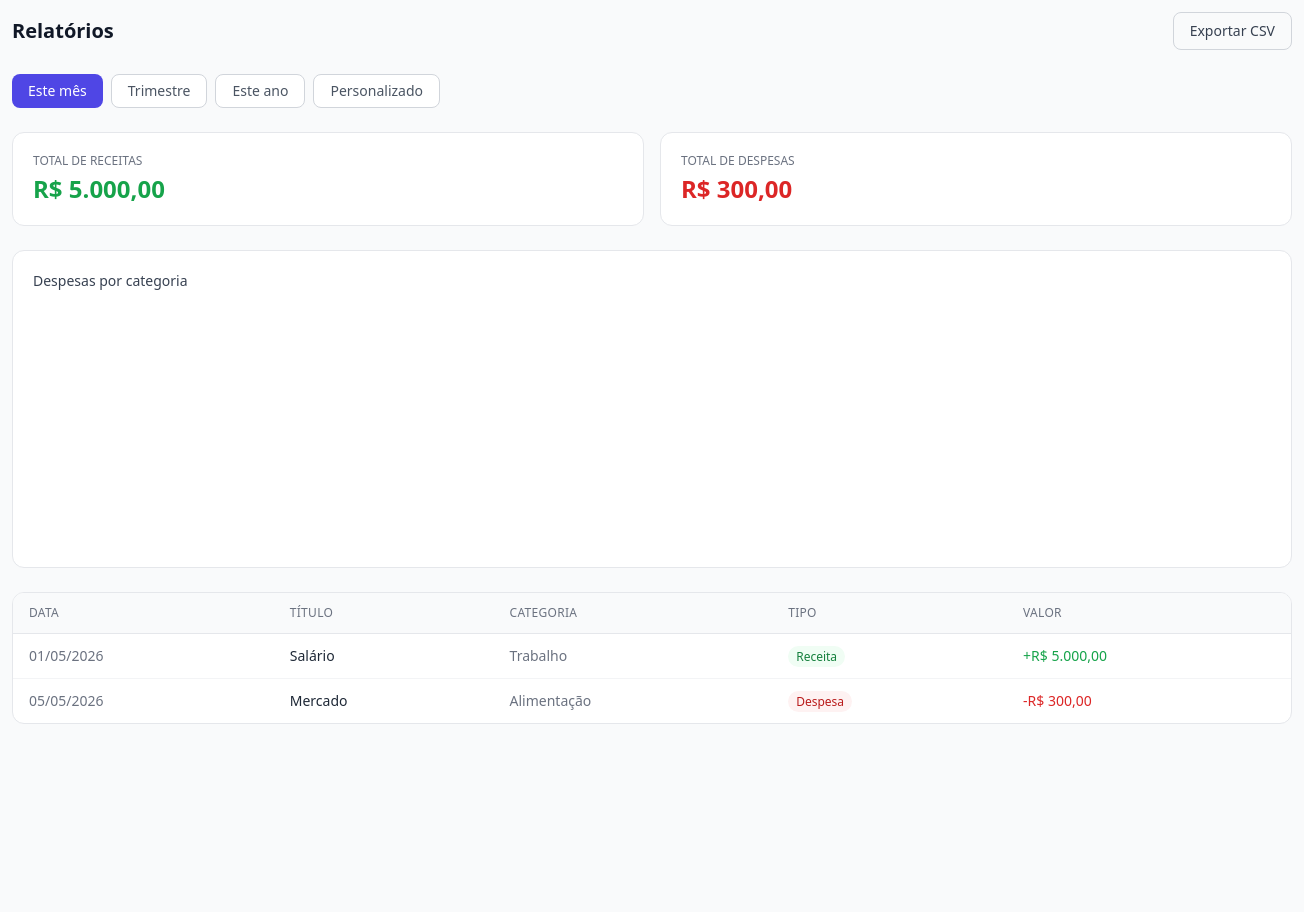
Test: Reports page › shows custom date inputs when "Personalizado" is clicked
The image size is (1304, 912).
Check: the text "Salário" is shown, box [274, 634, 494, 678]
Click the button "Personalizado". click: (377, 91)
box: [314, 74, 440, 108]
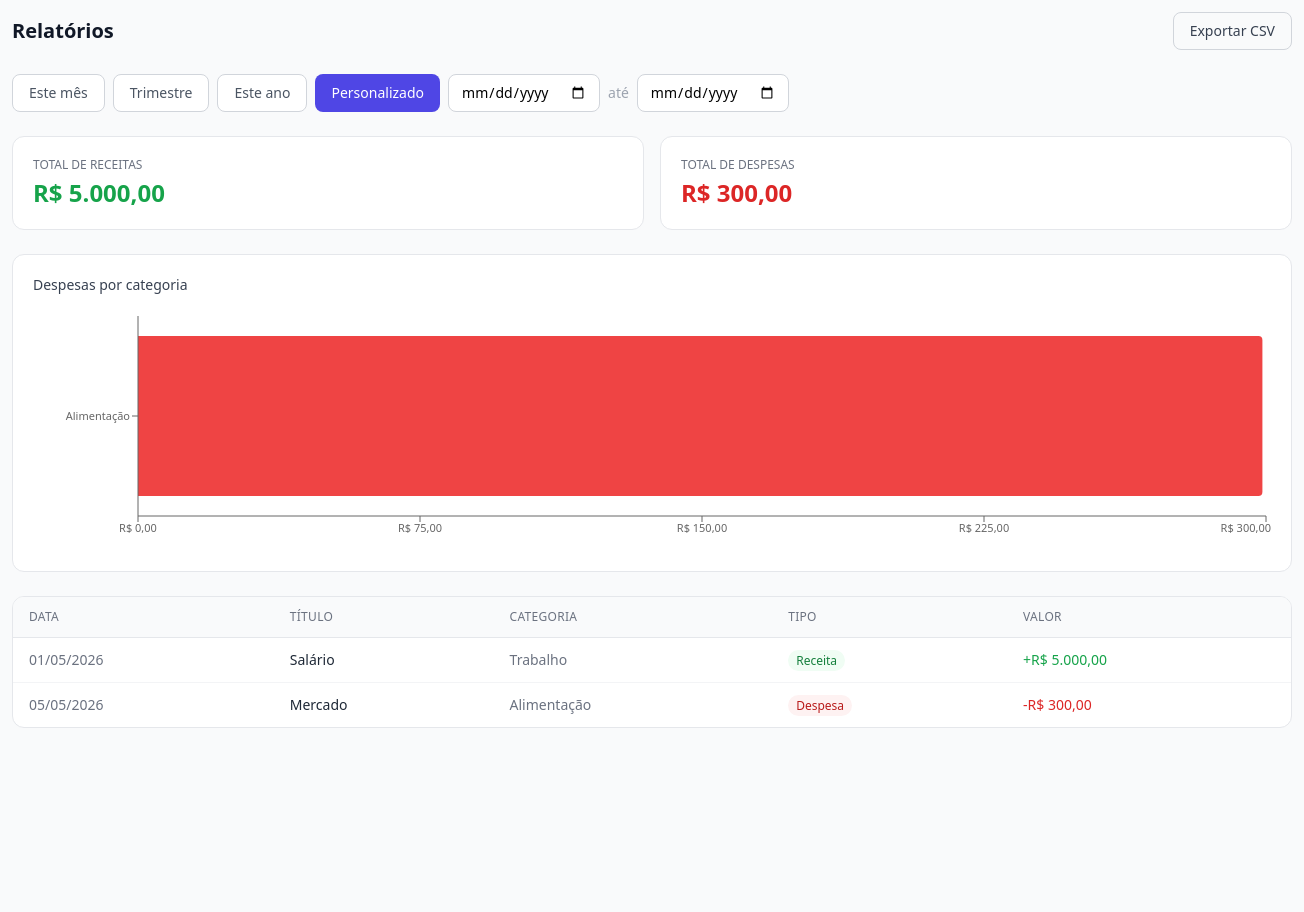
Check: the number of date fields is 2, box [448, 74, 600, 112]; [637, 74, 789, 112]
